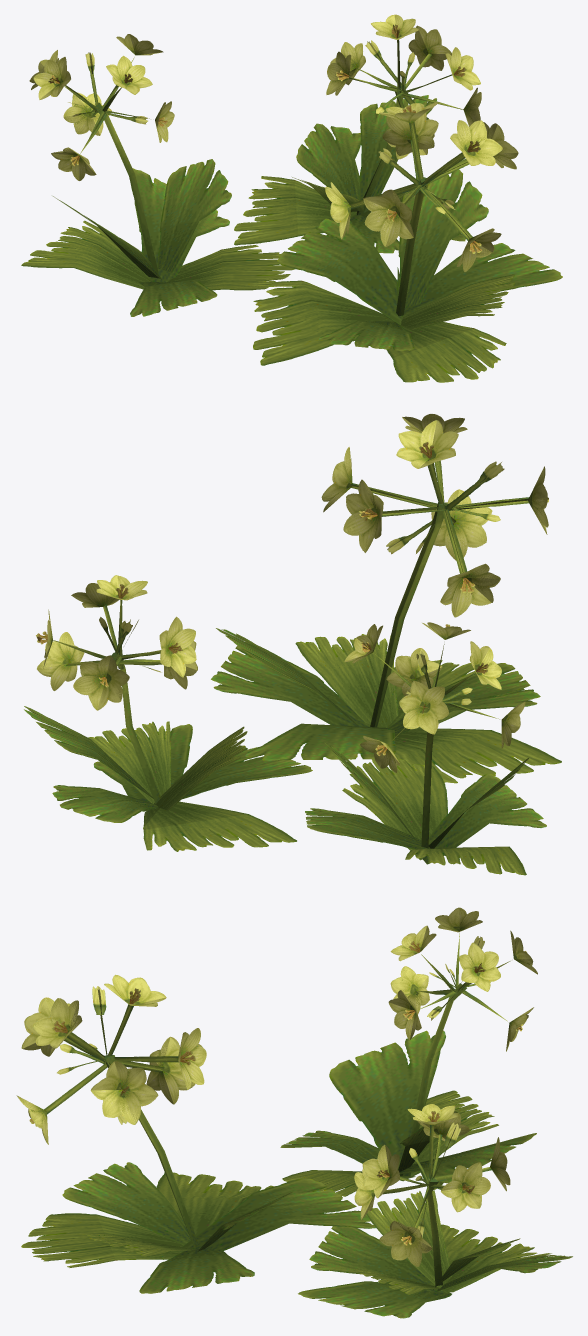
File: Plant_zhiwu_tongyong_13.FBX
3 views of the same model, one above another, from view 1: azimuth 30°, elevation 25°; view 2: azimuth 150°, elevation 25°; view 3: azimuth 270°, elevation 25° (orthographic). The views are drawn at different scales.
Visible parts, largest first — view 1: Plant_zhiwu_tongyong_13; view 2: Plant_zhiwu_tongyong_13; view 3: Plant_zhiwu_tongyong_13.
Part boxes in pixels (x1=…): Plant_zhiwu_tongyong_13: x1=21, y1=14, x2=562, y2=382; Plant_zhiwu_tongyong_13: x1=24, y1=414, x2=561, y2=875; Plant_zhiwu_tongyong_13: x1=16, y1=907, x2=572, y2=1318.
Size of the model in its own units: 117 by 62.14 by 120.
